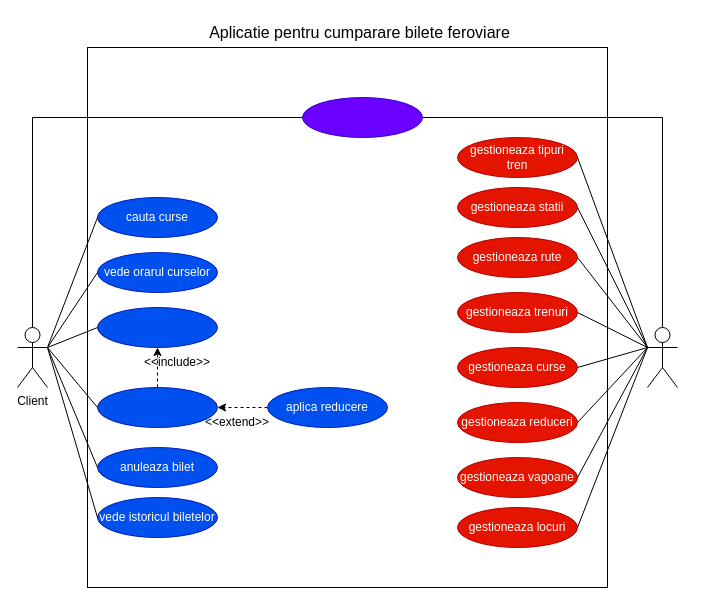
The diagram is 715 pixels wide and 605 high, and some of its shapes have lost their labels. Here are the shapes that lost their labels. From the top down, the box of each, then its label:
(302, 96, 422, 138): autentificare
(96, 306, 218, 348): vede locurile libere
(646, 326, 678, 388): Administrator
(96, 386, 218, 428): cumpara bilet
